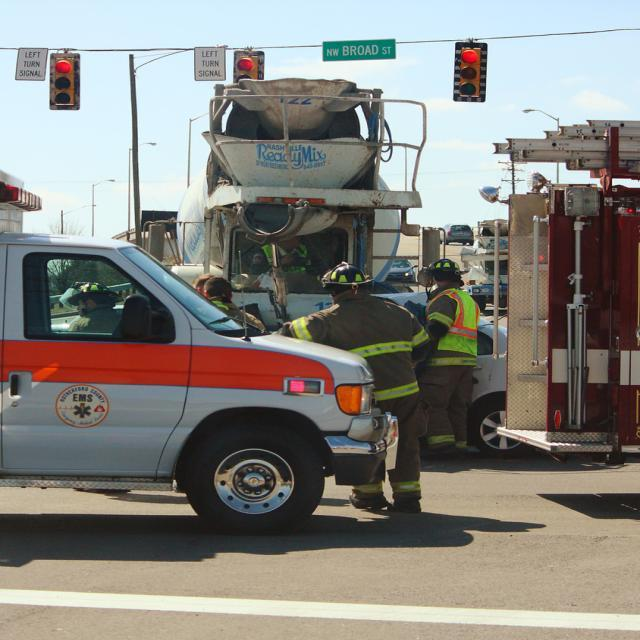traffic light: (461, 47, 481, 100), (52, 58, 74, 106)
